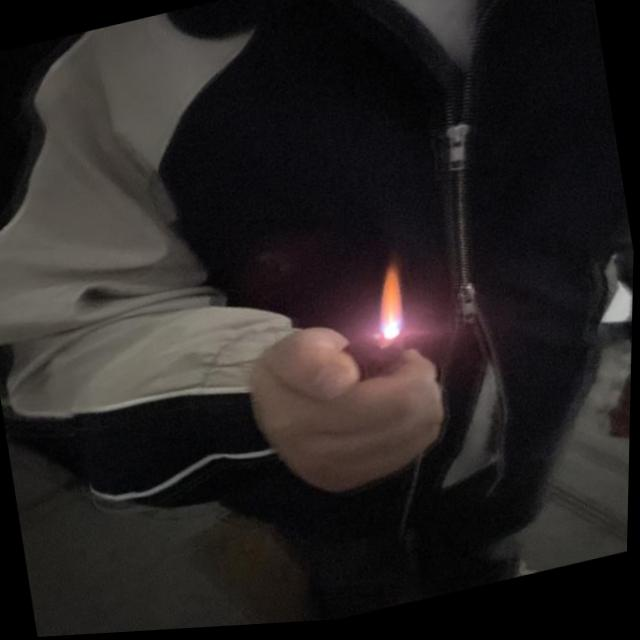Fire: (368, 259, 415, 348)
